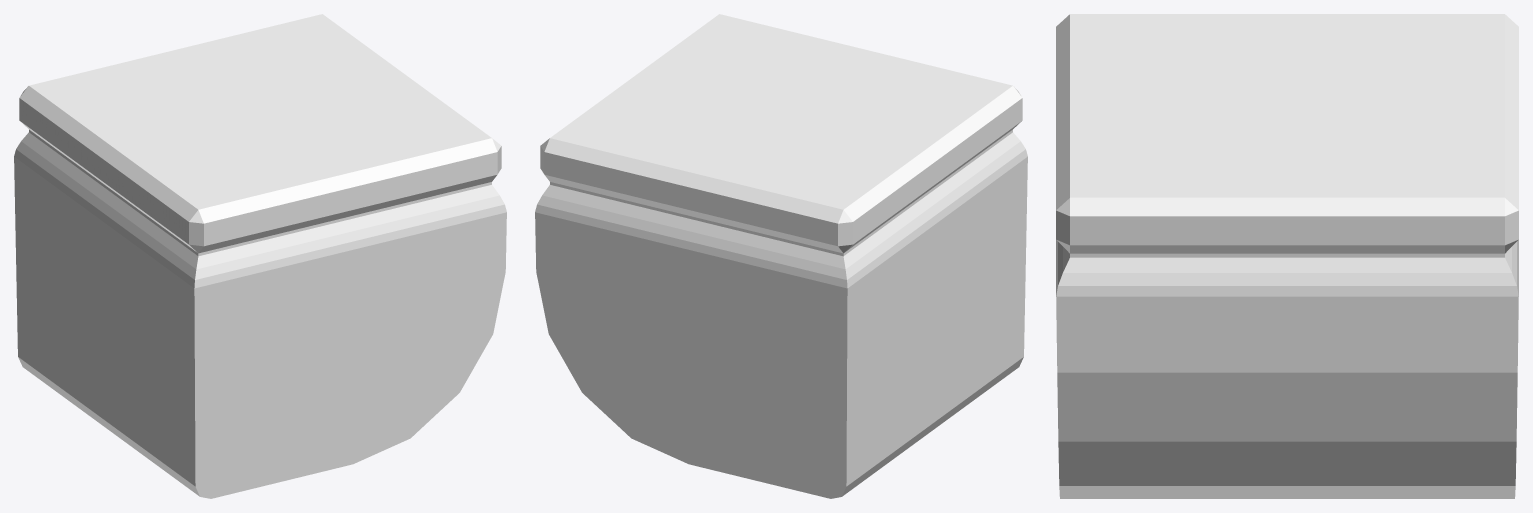
The model's file is Toilet 1.fbx.
3 renders of one model, left to right at view 1: azimuth 30°, elevation 25°; view 2: azimuth 150°, elevation 25°; view 3: azimuth 270°, elevation 25°, orthographic. The views are drawn at different scales.
Visible parts, largest first — view 1: Toilet; view 2: Toilet; view 3: Toilet.
Part boxes in pixels (x1,y1,x2,y2): Toilet: [14, 14, 506, 498]; Toilet: [535, 14, 1027, 498]; Toilet: [1056, 14, 1518, 498].
Bounding box in the file's own units: 60 × 52.91 × 60.
